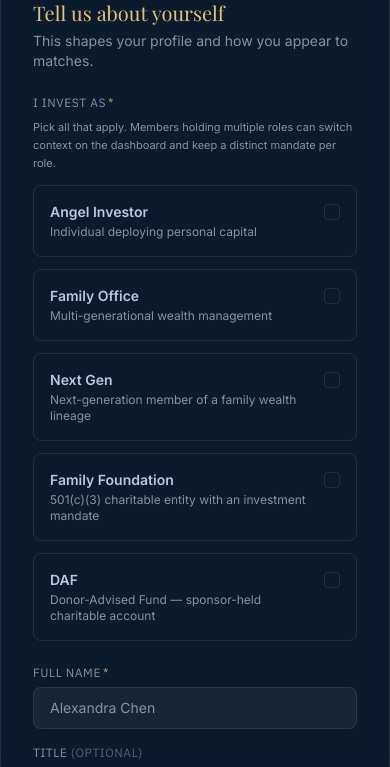
<OnboardingForm /> — multi-role identity gate (Step 1) › keeps Continue disabled for FO selection until AUM is picked
This screenshot has width=390, height=767.
Click the button "Family Office Multi-generational wealth management": coordinates (95, 295) [33,269,357,341]
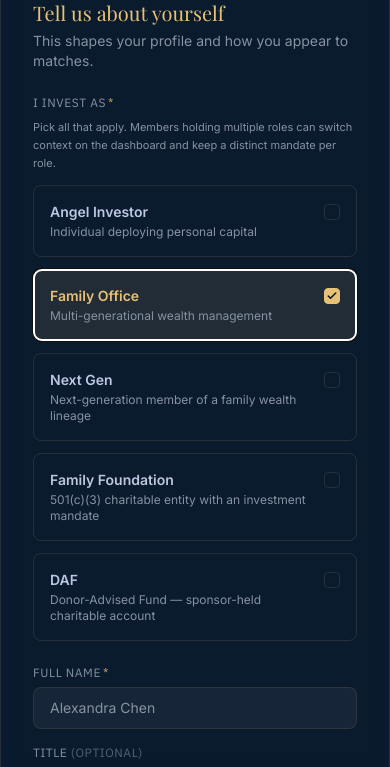
In the field with placeholder "Alexandra Chen": coordinates (195, 708) [33,687,357,729], type "Bob FO"
(page scrolled)
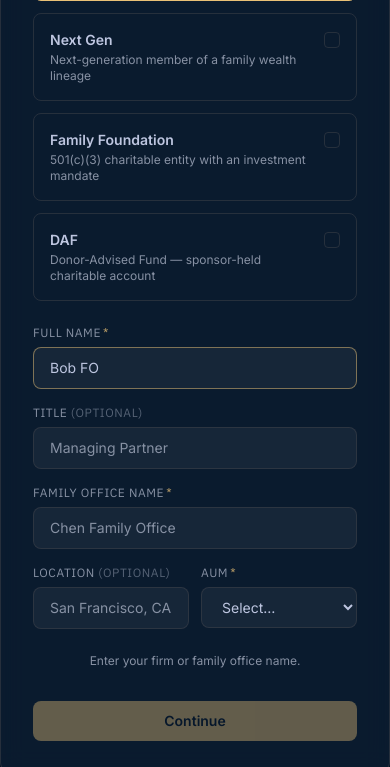
In the field with placeholder "Chen Family Office": coordinates (195, 528) [33,507,357,549], type "Beta Capital"
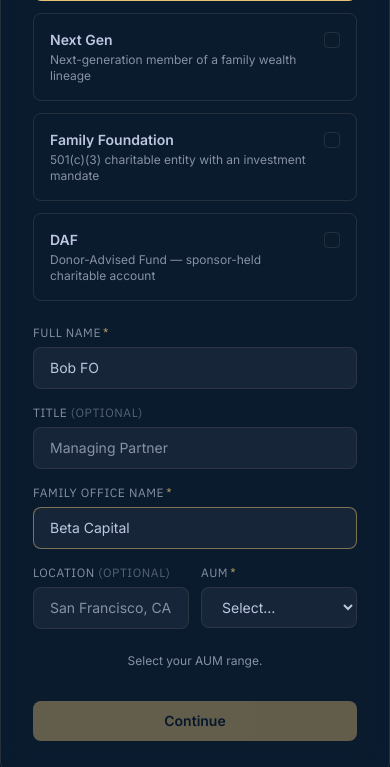
Expected: the button "Continue" is disabled, [33,701,357,741]
Result: the text "Select your AUM range." is shown at [128,653,262,668]
